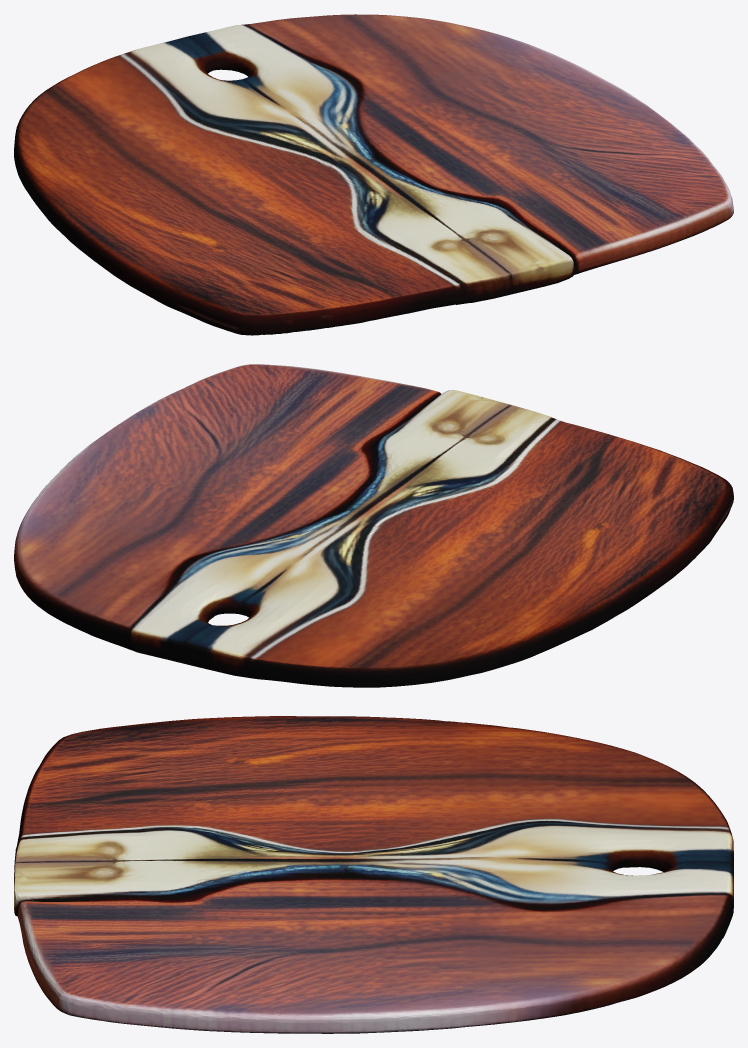
Rendered from wood-and-horn-guitar-pick-new-style.jpeg.glb.
3 views of the same model, one above another, from view 1: azimuth 30°, elevation 25°; view 2: azimuth 150°, elevation 25°; view 3: azimuth 270°, elevation 25° (orthographic). The views are drawn at different scales.
Visible parts, largest first — view 1: world; view 2: world; view 3: world.
Boxes of the visible parts, x1,y1,x2,y2 form: world: [14, 14, 733, 335]; world: [14, 364, 733, 687]; world: [14, 716, 733, 1033].
Size of the model in its own units: 0.9934 by 0.0422 by 1.
Materials: 1 (1 with a texture image).
